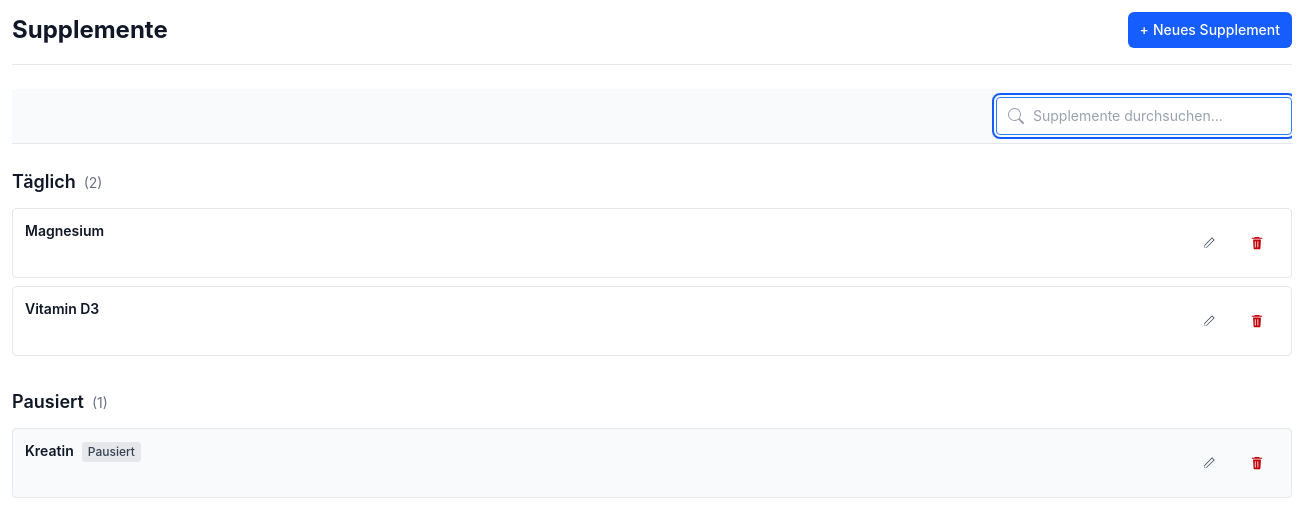
Test: SupplementsView › search filter (P-22c) › renders prev/next match-nav when matchCount >= 2 (P-22b/c/d-polish)
Expected: the heading "Täglich (2)" is shown, [12,171,102,192]
Type "i" into the search field.
click(1144, 116); type("i")  # box [996,97,1292,135]
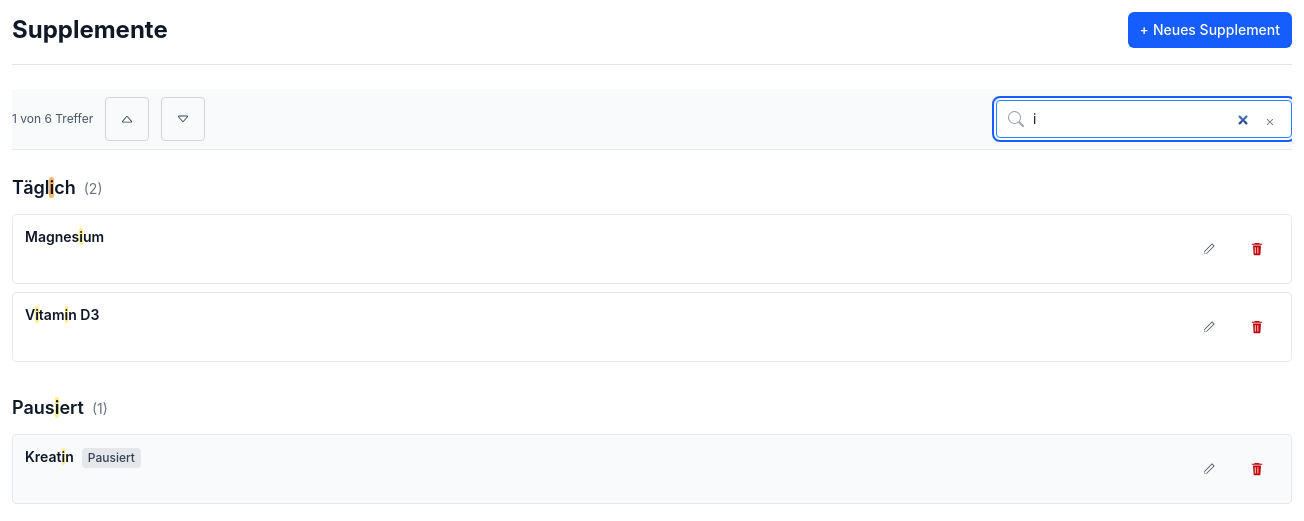
Expected: the button with test id "supplements-search-prev" is shown, [105,97,149,141]
Expected: the button with test id "supplements-search-next" is shown, [161,97,205,141]
